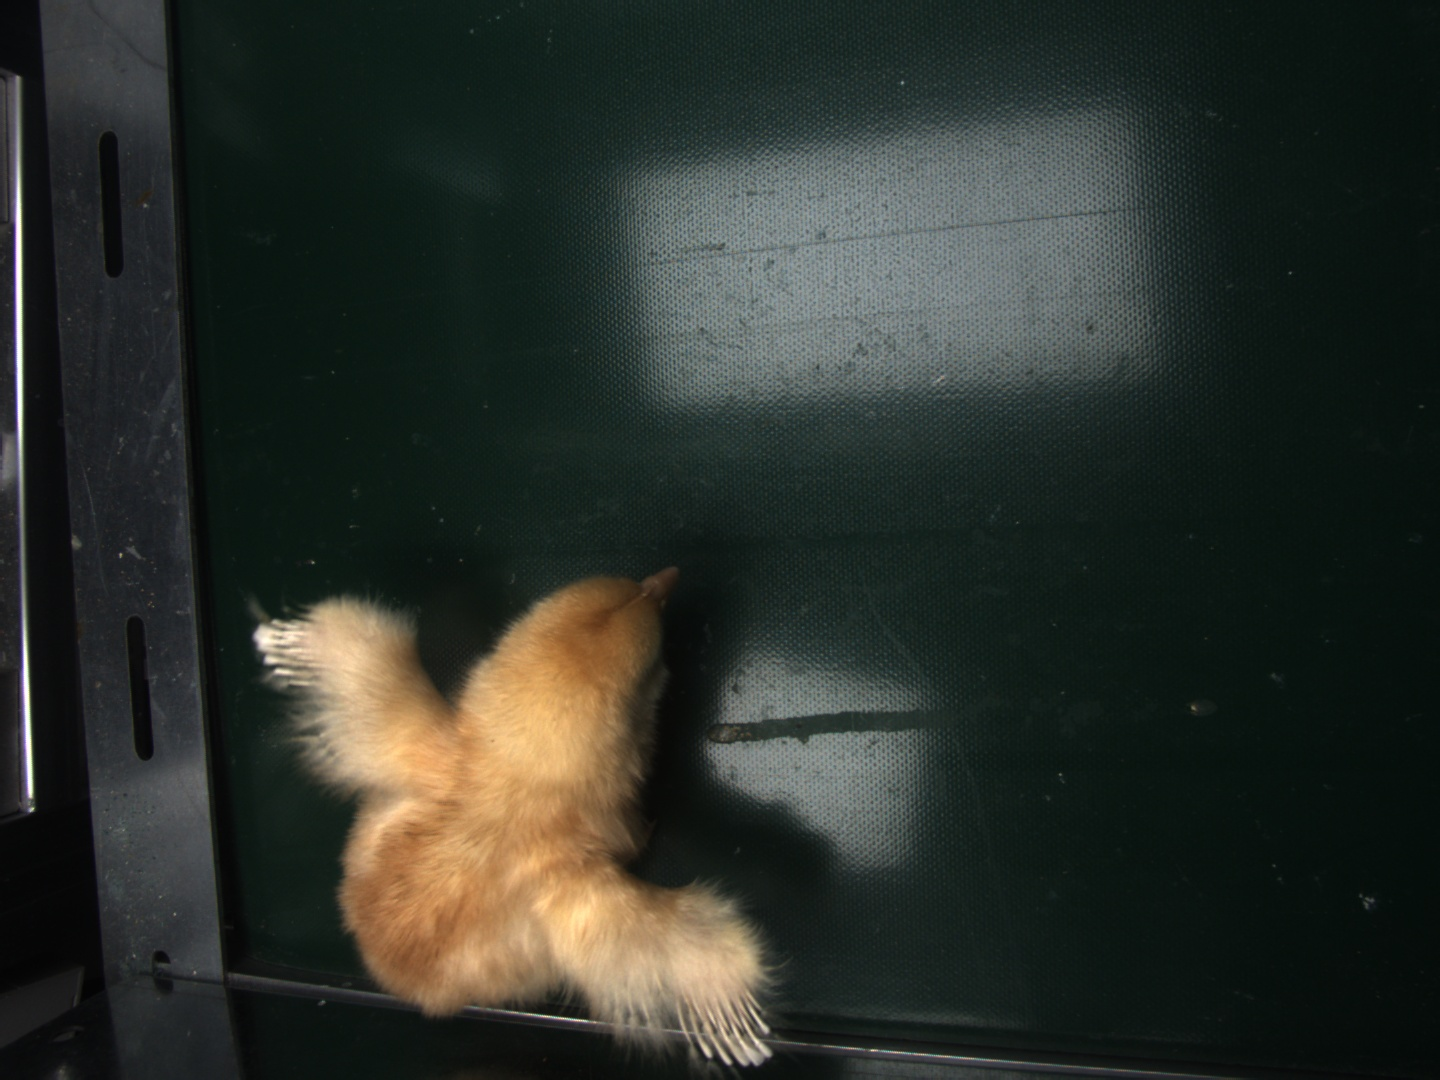female: (679, 992, 770, 1065)
